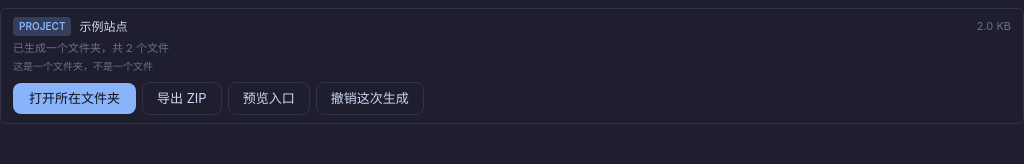
Test: PROJECT 产物卡片 › 导出 ZIP：成功后交给 saveFileAs，再提示已导出
Click the button "导出 ZIP": (182, 98) 142,82 -> 222,115
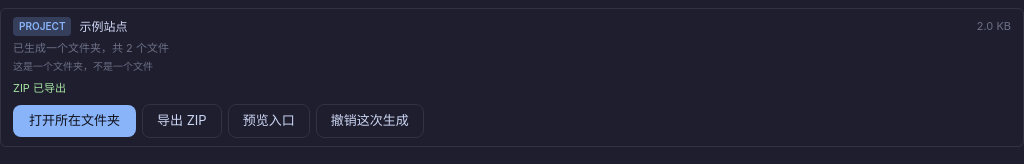
Expected: the text "ZIP 已导出" is shown, 13,80 -> 66,94
